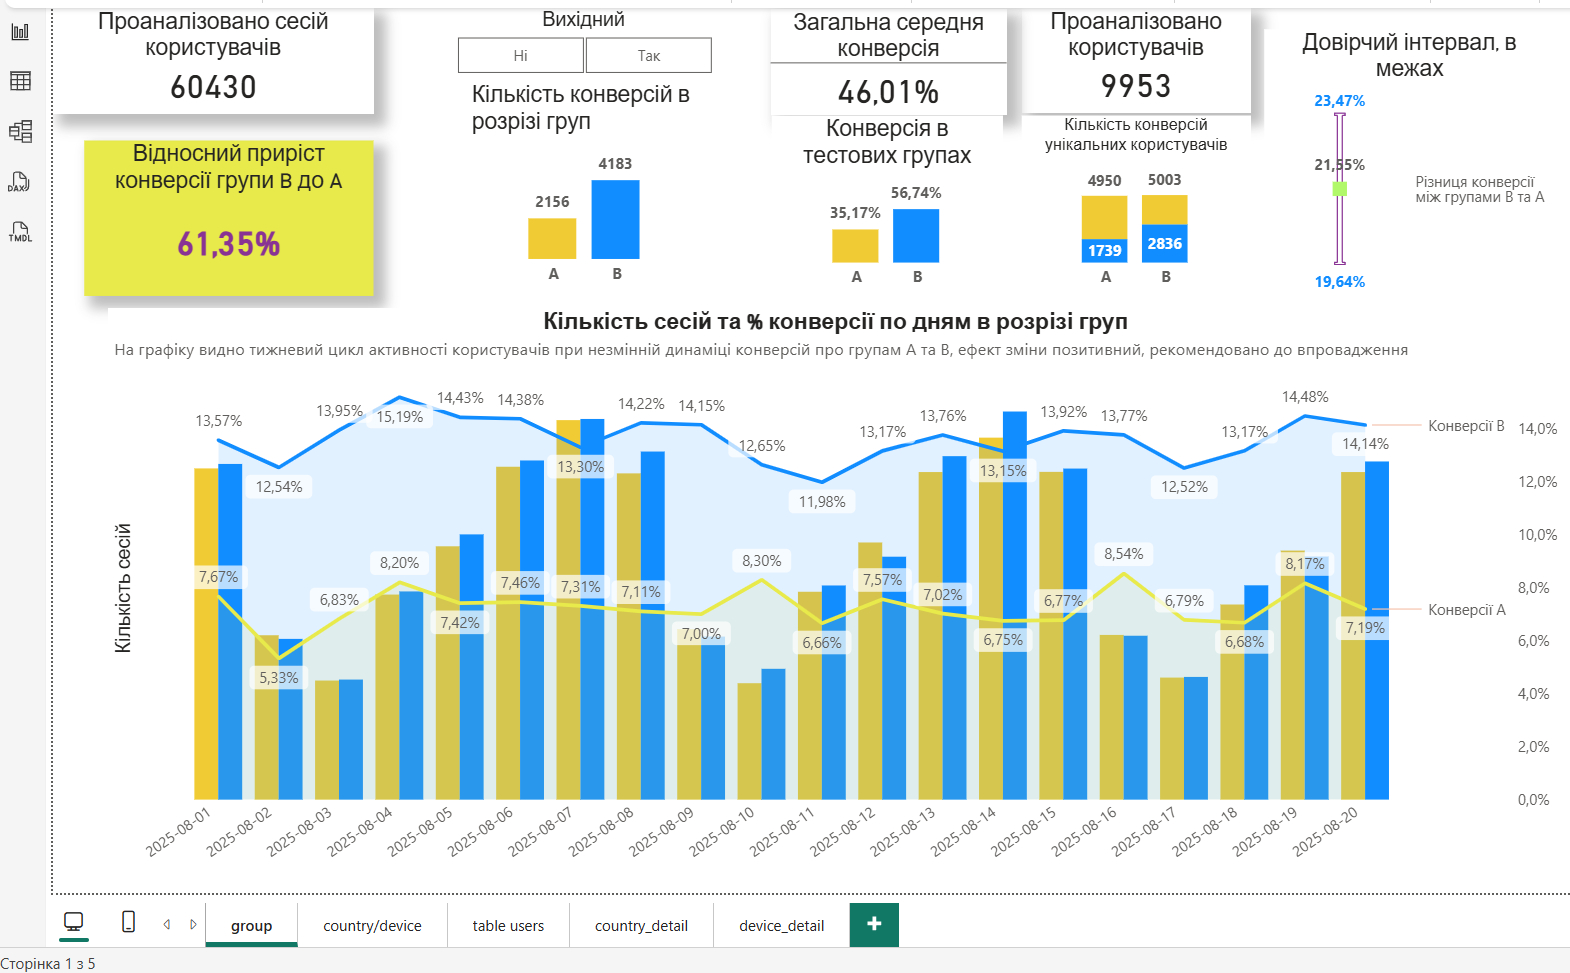

Layout of this report page (visuals, bound fields, positions):
{"tool":"powerbi","page":{"name":"group","canvas":[1280,720],"ordinal":0},"visuals":[{"type":"card","title":"Проаналізовано користувачів","fields":{"Values":["Sum(v_segment_agg.total_users)"]},"box":[787.6,0,186,85.9],"z":0},{"type":"card","title":"Загальна середня конверсія","fields":{"Values":["daily.cr"]},"box":[582.9,0.9,192.2,85.9],"z":1000},{"type":"card","title":"Відносний приріст конверсії групи B до A","fields":{"Values":["daily.cr_lift"]},"box":[25.4,108,235.1,126.2],"z":2000},{"type":"card","title":"Проаналізовано сесій користувачів","fields":{"Values":["daily.total_visits"]},"box":[0,0,260.5,86.2],"z":3000},{"type":"clusteredColumnChart","title":"Конверсія в тестових групах","fields":{"Y":["daily.cr"],"Category":["group.group_label"]},"box":[584.6,87.1,187.9,149.8],"z":4000},{"type":"lineClusteredColumnComboChart","title":"Кількість сесій та % конверсії по дням в розрізі груп","fields":{"Category":["Date.Date"],"Series":["group.group_label"],"Y":["daily.total_visits"],"Y2":["daily.cr_A","daily.cr_B"]},"box":[44.5,244.2,1183.8,469.3],"z":5000},{"type":"columnChart","title":"Кількість конверсій в розрізі груп","fields":{"Y":["daily.converted_visits"],"Category":["group.group_label"]},"box":[335,59.9,195.2,174.3],"z":6000},{"type":"lineChart","title":"Довірчий інтервал, в межах","fields":{"Category":["stats_data.metric"],"Y":["Max(stats_data.point_estimate)"]},"box":[985.2,16.8,236.5,217.1],"z":7000},{"type":"slicer","title":"Вихідний","fields":{"Values":["Date.IsWorkday"]},"box":[303.2,0,256.9,59.9],"z":8000},{"type":"columnChart","title":"Кількість конверсій унікальних користувачів","fields":{"Y":["daily.converted_users","daily.not_converted_users"],"Category":["group.group_label"]},"box":[788,87.1,186.1,149.8],"z":9000}]}

Visuals, with their boxes on the page's 1280x720 design canvas (x1, y1, x2, y2). These are canvas units, not pixel positions in the 1570x973 screenshot, which may show the page scaled, cropped or inside an application window:
"Проаналізовано користувачів" card: bbox(788, 0, 974, 86)
"Загальна середня конверсія" card: bbox(583, 1, 775, 87)
"Відносний приріст конверсії групи B до A" card: bbox(25, 108, 260, 234)
"Проаналізовано сесій користувачів" card: bbox(0, 0, 260, 86)
"Конверсія в тестових групах" clusteredColumnChart: bbox(585, 87, 772, 237)
"Кількість сесій та % конверсії по дням в розрізі груп" lineClusteredColumnComboChart: bbox(44, 244, 1228, 714)
"Кількість конверсій в розрізі груп" columnChart: bbox(335, 60, 530, 234)
"Довірчий інтервал, в межах" lineChart: bbox(985, 17, 1222, 234)
"Вихідний" slicer: bbox(303, 0, 560, 60)
"Кількість конверсій унікальних користувачів" columnChart: bbox(788, 87, 974, 237)
